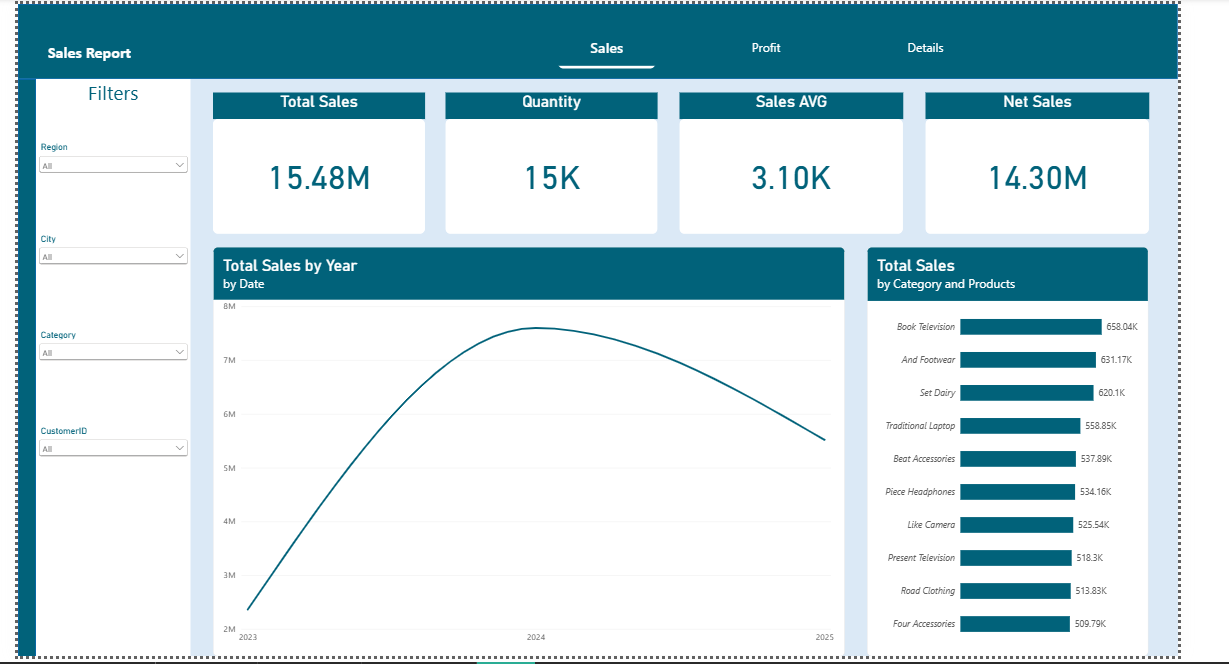

Layout of this report page (visuals, bound fields, positions):
{"tool":"powerbi","page":{"name":"Sales","canvas":[1920,1080],"ordinal":0},"visuals":[{"type":"shape","box":[0,0,1920.7,124.2],"z":0},{"type":"shape","box":[0,124.2,29.8,956.6],"z":1000},{"type":"shape","box":[29.8,124.2,255.9,956.6],"z":2000},{"type":"textbox","box":[48.8,63.4,312.2,43.9],"z":3000},{"type":"cardVisual","title":"Total Sales","fields":{"Data":["Transactions.Total Sales"]},"box":[322,146.3,351.2,234.1],"z":4000},{"type":"cardVisual","title":"Sales AVG","fields":{"Data":["Transactions.T.SalesAVG"]},"box":[1095.9,146.3,370.7,234.1],"z":5000},{"type":"cardVisual","title":"Net Sales","fields":{"Data":["Transactions.NetSales"]},"box":[1502.4,146.3,370.7,234.1],"z":6000},{"type":"clusteredBarChart","title":"Total Sales","fields":{"Category":["Products.ProductName"],"Y":["Transactions.Total Sales"]},"box":[1407.3,402.4,465.9,678],"z":7000},{"type":"cardVisual","title":"Quantity","fields":{"Data":["Sum(Transactions.Quantity)"]},"box":[708.9,146.3,351.2,234.1],"z":8000},{"type":"lineChart","fields":{"Y":["Transactions.Total Sales"],"Category":["Transactions.Date.Variation.Date Hierarchy.Year","Transactions.Date.Variation.Date Hierarchy.Quarter","Transactions.Date.Variation.Date Hierarchy.Month","Transactions.Date.Variation.Date Hierarchy.Day"]},"box":[322,402.4,1046.3,678],"z":9000},{"type":"textbox","box":[29.3,124.4,256.1,104.9],"z":10000},{"type":"slicer","fields":{"Values":["Stores.Region"]},"box":[29.3,229.3,256.1,136.6],"z":11000},{"type":"slicer","fields":{"Values":["Stores.City"]},"box":[29.3,380.5,256.1,158.5],"z":12000},{"type":"slicer","fields":{"Values":["Products.Category"]},"box":[29.3,539,256.1,158.5],"z":13000},{"type":"slicer","fields":{"Values":["Customers.CustomerID"]},"box":[29.3,697.6,256.1,158.5],"z":14000},{"type":"pageNavigator","box":[846.3,17.1,785.4,90.2],"z":15000}]}

Visuals, with their boxes on the page's 1920x1080 design canvas (x1, y1, x2, y2). These are canvas units, not pixel positions in the 1229x664 screenshot, which may show the page scaled, cropped or inside an application window:
shape: BBox(0, 0, 1921, 124)
shape: BBox(0, 124, 30, 1081)
shape: BBox(30, 124, 286, 1081)
textbox: BBox(49, 63, 361, 107)
"Total Sales" cardVisual: BBox(322, 146, 673, 380)
"Sales AVG" cardVisual: BBox(1096, 146, 1467, 380)
"Net Sales" cardVisual: BBox(1502, 146, 1873, 380)
"Total Sales" clusteredBarChart: BBox(1407, 402, 1873, 1080)
"Quantity" cardVisual: BBox(709, 146, 1060, 380)
lineChart - Transactions.Total Sales x Transactions.Date.Variation.Date Hierarchy.Year: BBox(322, 402, 1368, 1080)
textbox: BBox(29, 124, 285, 229)
slicer - Stores.Region: BBox(29, 229, 285, 366)
slicer - Stores.City: BBox(29, 380, 285, 539)
slicer - Products.Category: BBox(29, 539, 285, 698)
slicer - Customers.CustomerID: BBox(29, 698, 285, 856)
pageNavigator: BBox(846, 17, 1632, 107)
